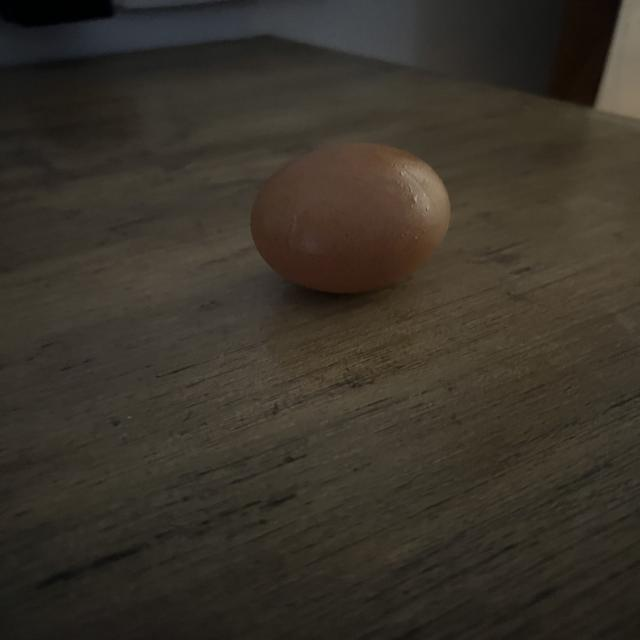egg: (248, 137, 461, 296)
